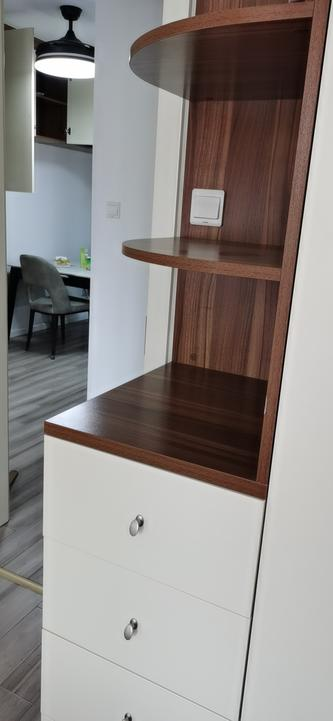switch: (190, 190, 224, 223)
